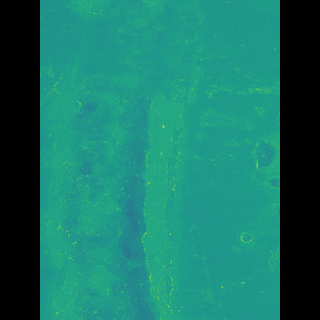Loch: (71, 0, 193, 320)
